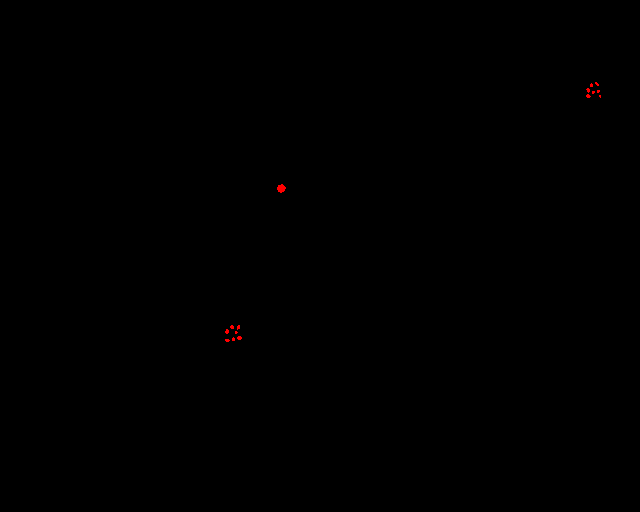Target: (277, 184, 286, 193), (586, 88, 590, 93), (586, 94, 591, 98), (225, 329, 229, 334), (237, 336, 242, 340), (595, 82, 599, 86), (230, 325, 234, 329), (237, 325, 240, 330), (225, 339, 230, 342), (590, 83, 593, 87), (232, 337, 235, 341), (597, 90, 600, 93), (592, 91, 595, 94), (235, 331, 238, 334), (599, 95, 601, 98)
